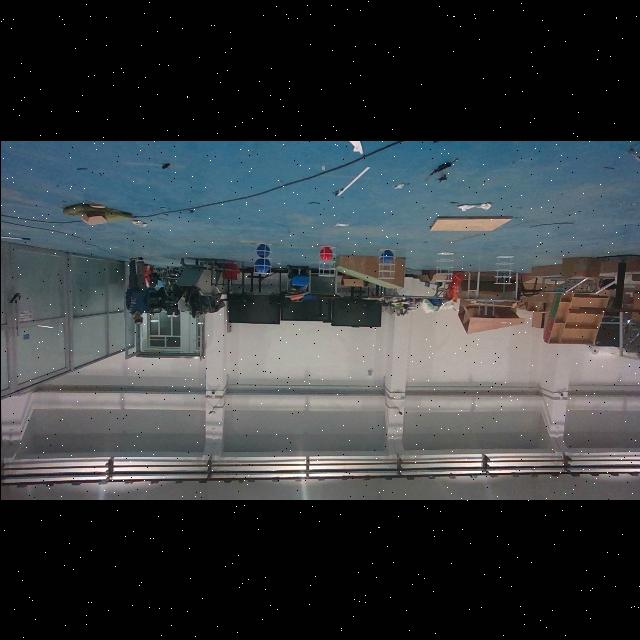B: (252, 258, 270, 272), (253, 244, 271, 256), (378, 251, 394, 263)
R: (318, 247, 332, 260)
S: (248, 238, 276, 276), (314, 243, 338, 279), (433, 248, 455, 284), (492, 254, 516, 286), (374, 246, 396, 280)
